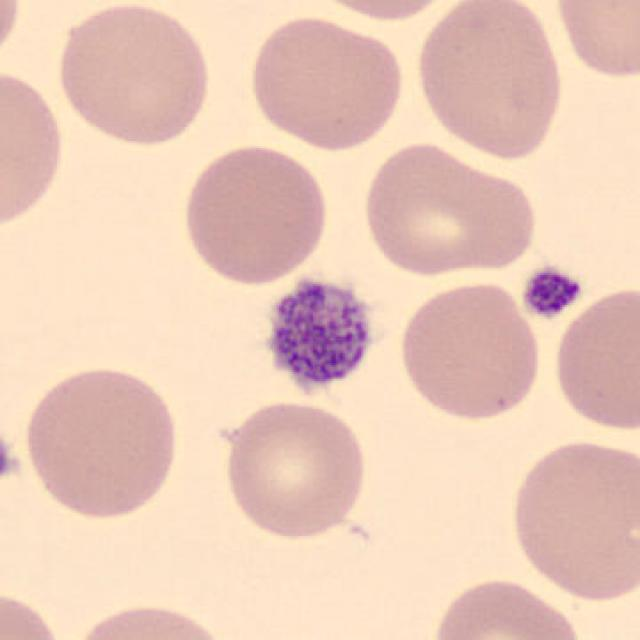Platelets: (256, 272, 379, 404), (517, 263, 585, 321), (0, 428, 20, 486)
RBC: (18, 360, 185, 522), (358, 137, 540, 280), (411, 0, 569, 162), (51, 0, 217, 148), (244, 10, 407, 154), (178, 139, 332, 289), (217, 395, 371, 543), (505, 433, 638, 604), (394, 277, 546, 425), (548, 282, 638, 436), (0, 62, 68, 236), (425, 573, 590, 640), (550, 0, 638, 85), (65, 597, 234, 640), (298, 0, 468, 25), (0, 587, 69, 640), (0, 0, 25, 76)
